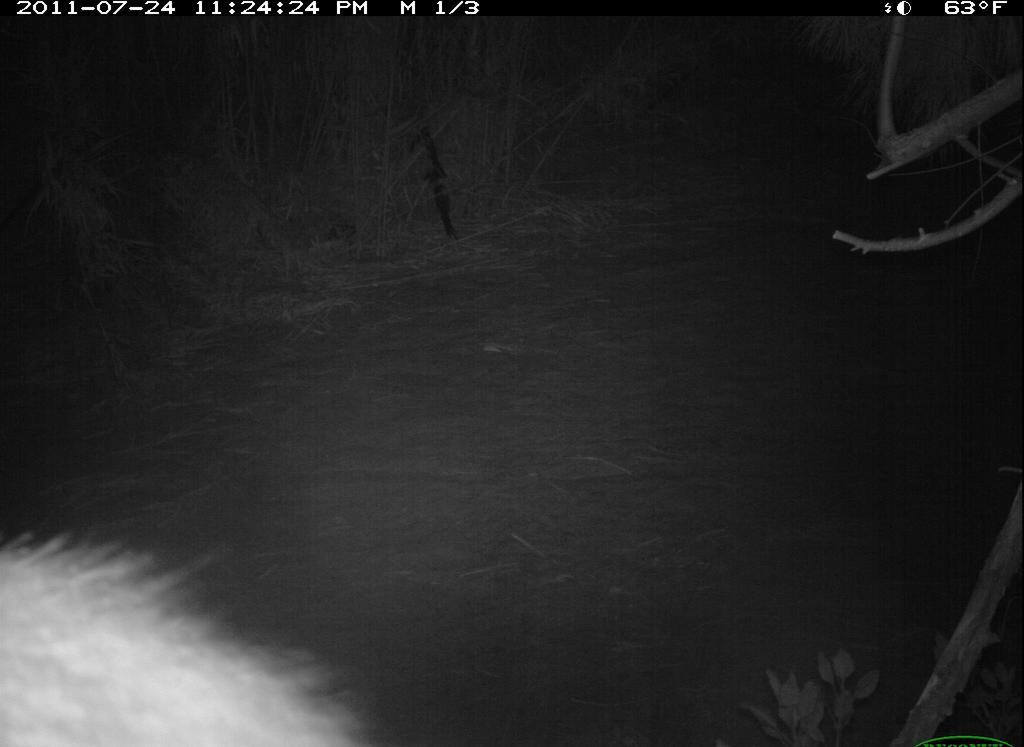raccoon: (3, 443, 397, 745)
